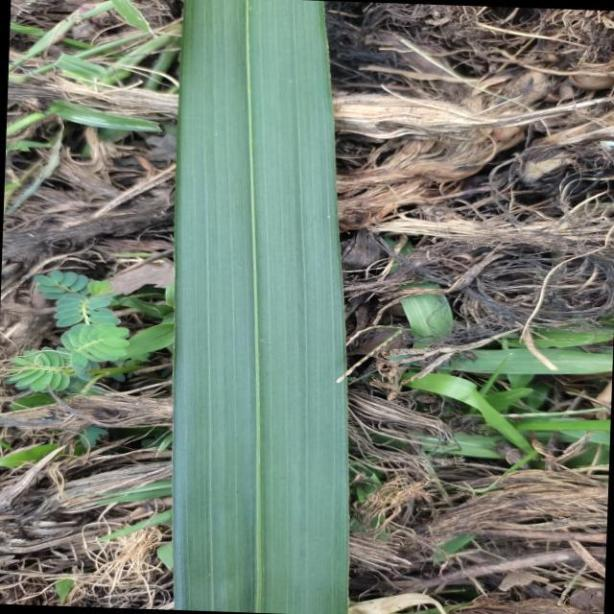Healthy: (176, 0, 344, 614)
